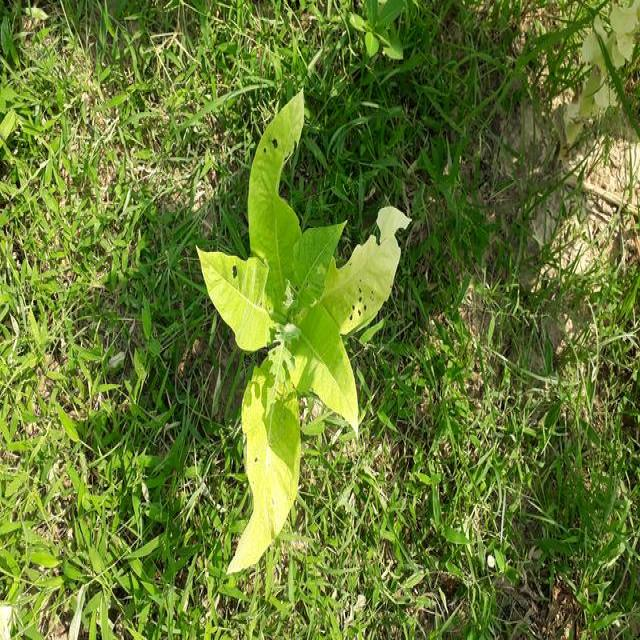crop: (194, 98, 408, 571)
